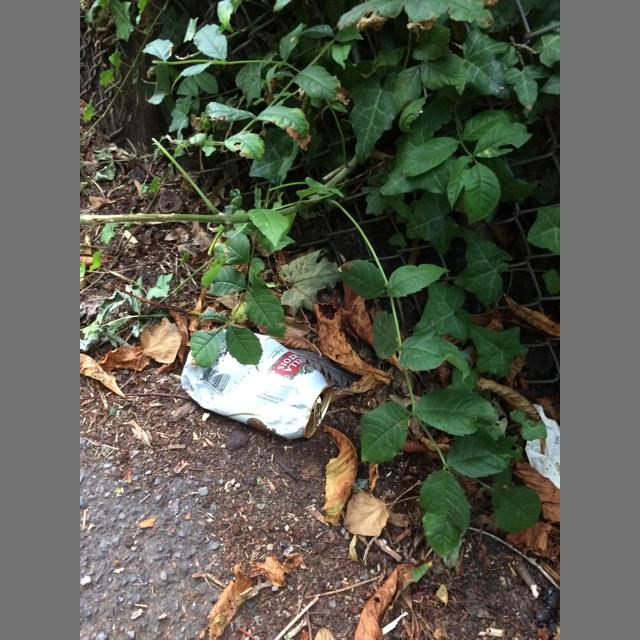litter: (181, 330, 333, 439), (525, 404, 560, 489), (314, 403, 322, 429)
